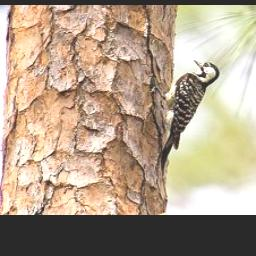Woodpecker: (151, 59, 221, 175)
